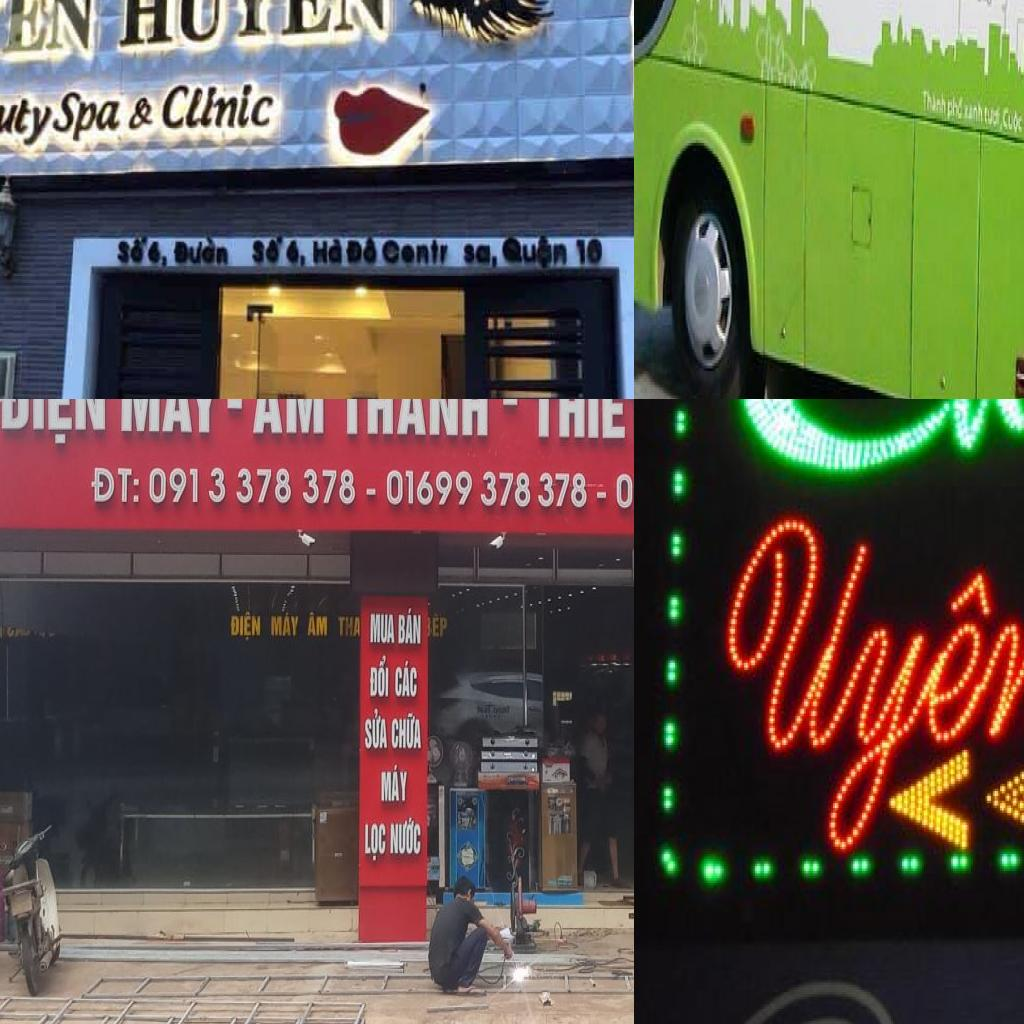text: (693, 495, 1024, 851), (716, 399, 1024, 498), (118, 0, 391, 48), (385, 466, 589, 512), (147, 466, 357, 508), (339, 399, 490, 439), (161, 80, 279, 130), (0, 399, 108, 445), (529, 399, 634, 443), (52, 88, 125, 144), (119, 399, 223, 436), (0, 90, 54, 149), (248, 399, 327, 437), (501, 234, 570, 268), (90, 466, 141, 506), (381, 239, 450, 266), (172, 236, 231, 267), (389, 815, 423, 857), (379, 762, 411, 804), (390, 712, 424, 751), (363, 706, 389, 753), (116, 236, 150, 269), (920, 81, 948, 121), (394, 658, 419, 700), (397, 606, 423, 646), (229, 611, 262, 642), (344, 237, 379, 266), (368, 654, 390, 700), (462, 242, 499, 269), (251, 236, 285, 265), (364, 822, 388, 863), (369, 611, 397, 646), (1001, 99, 1024, 140), (270, 611, 302, 639), (129, 97, 154, 132), (983, 97, 1003, 140), (312, 239, 343, 266), (576, 237, 604, 266), (963, 94, 984, 132), (946, 86, 965, 127), (285, 239, 308, 269), (336, 614, 362, 640), (306, 611, 329, 639), (431, 611, 449, 639)
